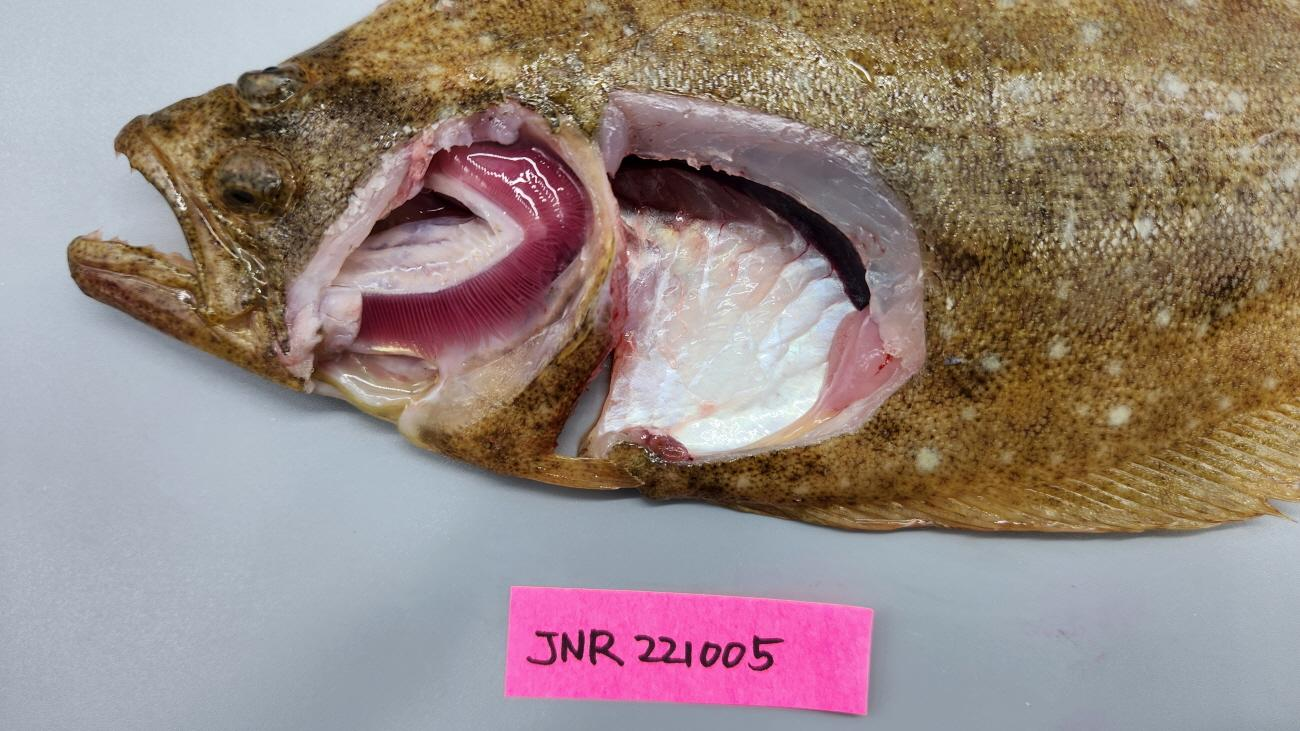POKIN: (618, 153, 870, 310)
POREN: (687, 304, 902, 456)
